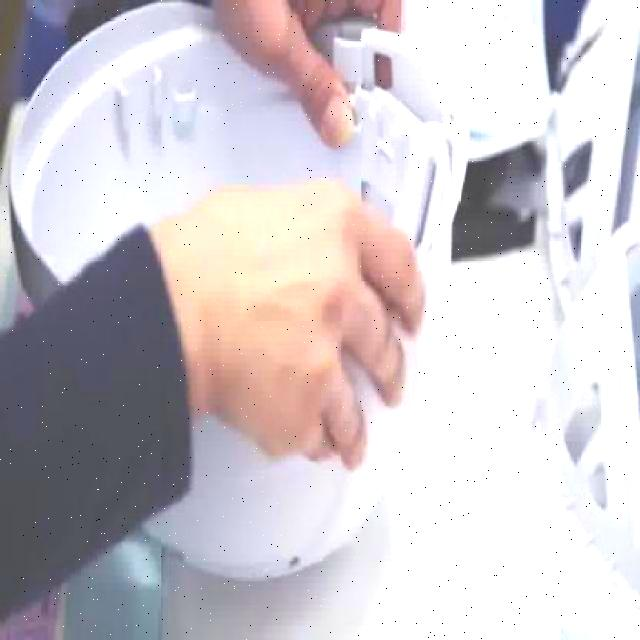Helmet: (6, 0, 472, 588)
